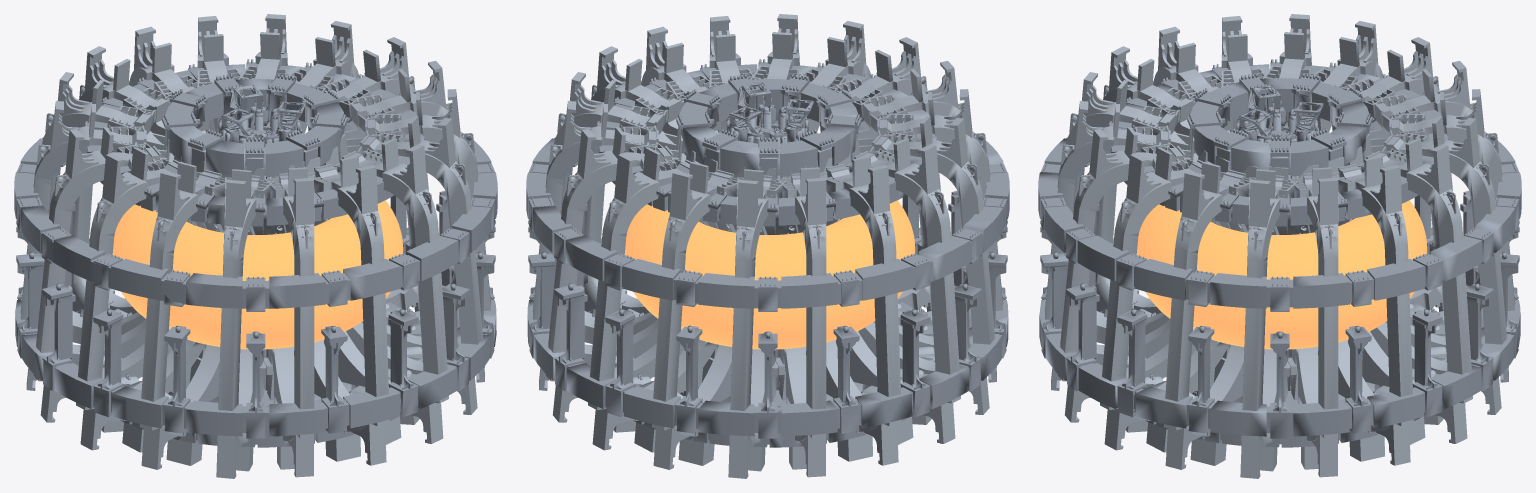
The model's file is iter_tokamak.glb.
3 views of the same model, side by side, from view 1: azimuth 30°, elevation 25°; view 2: azimuth 150°, elevation 25°; view 3: azimuth 270°, elevation 25° (orthographic).
Visible parts, largest first — view 1: iter_pf4, iter_pf3, plasma, iter_pf1, tf.010, tf.013, tf.014, tf.009, tf.012, tf.011, tf.015, tf.008 (+13 smaller); view 2: iter_pf4, iter_pf3, plasma, iter_pf1, tf.004, tf.007, tf.003, tf.008, tf.006, tf.005, tf.009, tf.002 (+13 smaller); view 3: iter_pf4, iter_pf3, plasma, iter_pf1, tf.016, tf.001, tf.002, tf.015, tf, tf.017, tf.003, tf.014 (+13 smaller).
Part boxes in pixels (x1=…): iter_pf4: x1=15, y1=191, x2=496, y2=438; iter_pf3: x1=14, y1=137, x2=497, y2=311; plasma: x1=112, y1=200, x2=403, y2=349; iter_pf1: x1=162, y1=74, x2=347, y2=176; tf.010: x1=139, y1=162, x2=255, y2=469; tf.013: x1=274, y1=156, x2=389, y2=465; tf.014: x1=324, y1=138, x2=448, y2=444; tf.009: x1=76, y1=147, x2=223, y2=452; tf.012: x1=248, y1=165, x2=314, y2=477; tf.011: x1=215, y1=166, x2=286, y2=478; tf.015: x1=325, y1=116, x2=484, y2=424; tf.008: x1=33, y1=127, x2=197, y2=432; iter_pf4: x1=527, y1=190, x2=1008, y2=438; iter_pf3: x1=526, y1=132, x2=1009, y2=311; plasma: x1=624, y1=200, x2=915, y2=349; iter_pf1: x1=676, y1=74, x2=861, y2=178; tf.004: x1=651, y1=161, x2=767, y2=469; tf.007: x1=786, y1=156, x2=901, y2=465; tf.003: x1=588, y1=147, x2=736, y2=452; tf.008: x1=836, y1=138, x2=960, y2=444; tf.006: x1=760, y1=165, x2=826, y2=477; tf.005: x1=727, y1=166, x2=798, y2=478; tf.009: x1=837, y1=116, x2=996, y2=424; tf.002: x1=546, y1=127, x2=709, y2=432; iter_pf4: x1=1039, y1=190, x2=1520, y2=438; iter_pf3: x1=1038, y1=110, x2=1521, y2=311; plasma: x1=1136, y1=200, x2=1427, y2=349; iter_pf1: x1=1187, y1=73, x2=1372, y2=176; tf.016: x1=1163, y1=161, x2=1279, y2=469; tf.001: x1=1298, y1=156, x2=1413, y2=465; tf.002: x1=1348, y1=138, x2=1472, y2=444; tf.015: x1=1100, y1=147, x2=1248, y2=452; tf: x1=1272, y1=164, x2=1338, y2=477; tf.017: x1=1239, y1=166, x2=1310, y2=478; tf.003: x1=1349, y1=116, x2=1508, y2=424; tf.014: x1=1058, y1=127, x2=1221, y2=432.
Size of the model in its own units: 1.41 by 0.9749 by 1.41.
